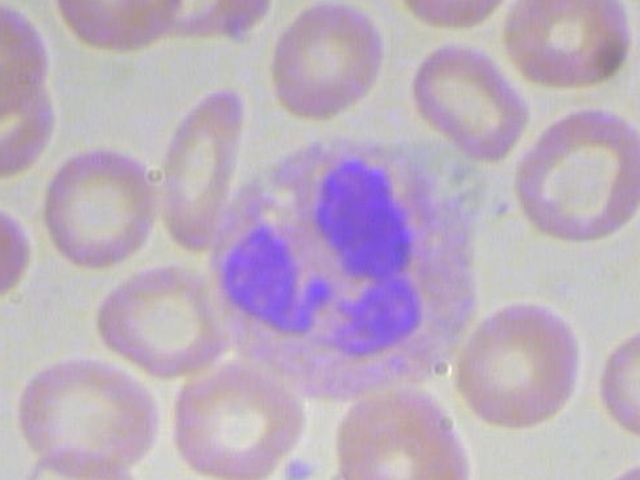Platelets: (277, 456, 325, 480)
RBC: (445, 284, 589, 436), (504, 101, 640, 252), (12, 350, 163, 472), (159, 360, 311, 480), (94, 256, 229, 383), (38, 139, 163, 269), (404, 39, 534, 163), (268, 0, 392, 127), (159, 87, 254, 252), (500, 0, 635, 94), (336, 404, 473, 480), (0, 0, 51, 116), (595, 317, 640, 441), (18, 441, 142, 480), (0, 180, 36, 308), (0, 316, 14, 443), (590, 459, 640, 480)
WBC: (189, 136, 510, 403)
